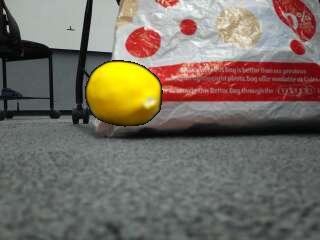lemon: (89, 62, 163, 125)
